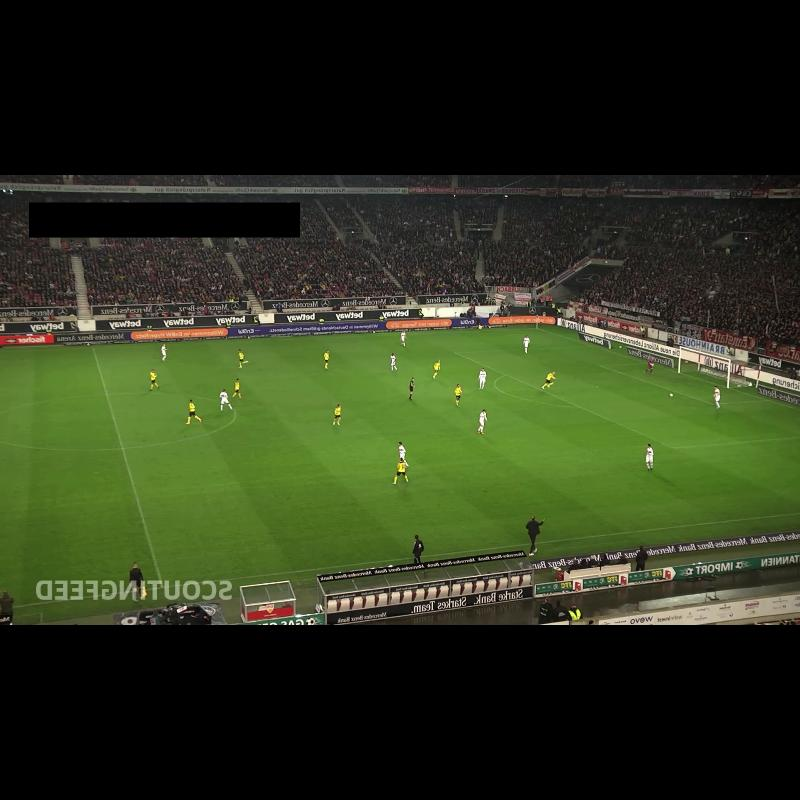cross_recipient_zone: (454, 346, 800, 448)
crossing_player_zone: (555, 437, 800, 528), (343, 328, 591, 356)
pitch: (0, 328, 800, 610)
